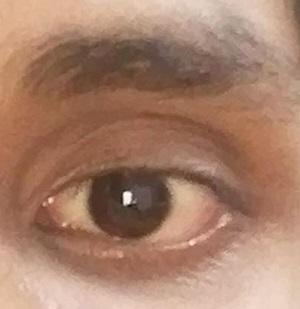open: (3, 112, 288, 276)
